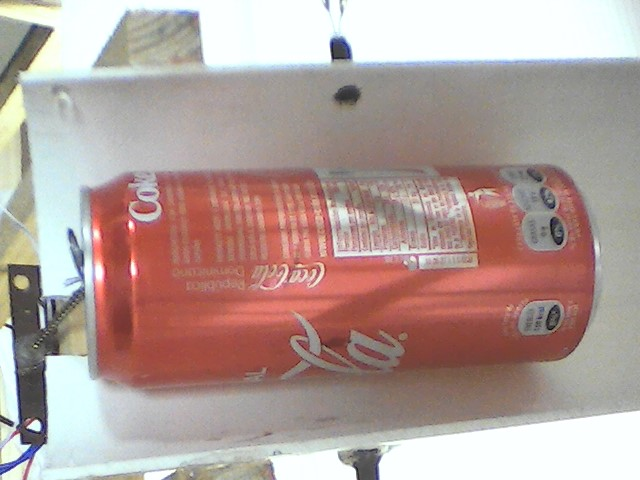lata: (65, 159, 608, 392)
